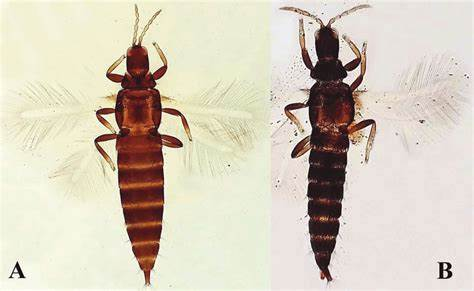Phlaeothripidae: (1, 4, 264, 288), (277, 1, 474, 290)
